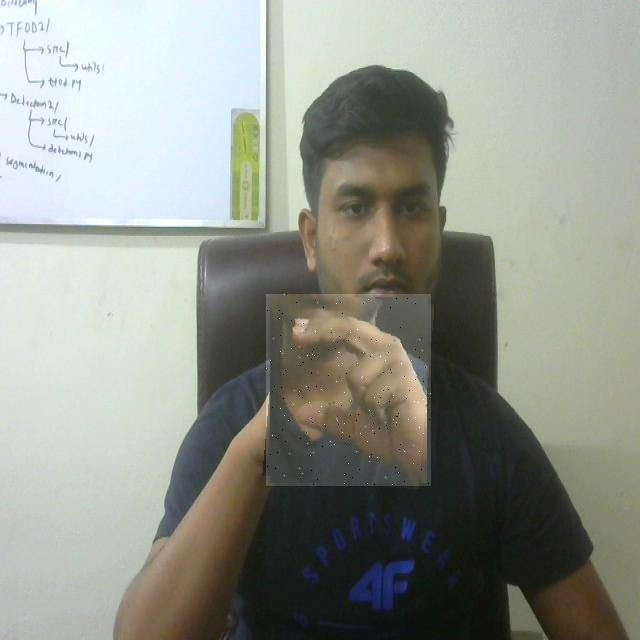No: (266, 294, 431, 486)
